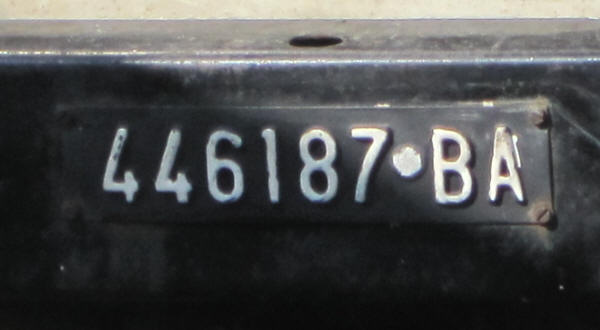license_plate: (50, 106, 554, 227)
